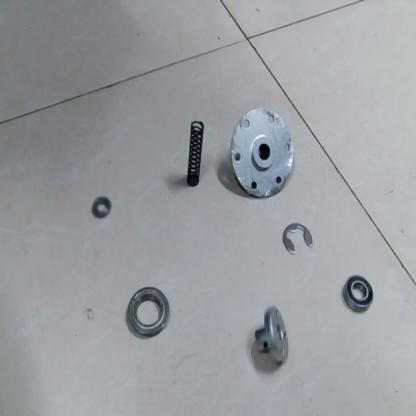FOD: (228, 110, 295, 202), (251, 301, 294, 368), (126, 286, 171, 341), (184, 116, 206, 192), (342, 273, 375, 315), (280, 219, 315, 257), (91, 193, 113, 220)
